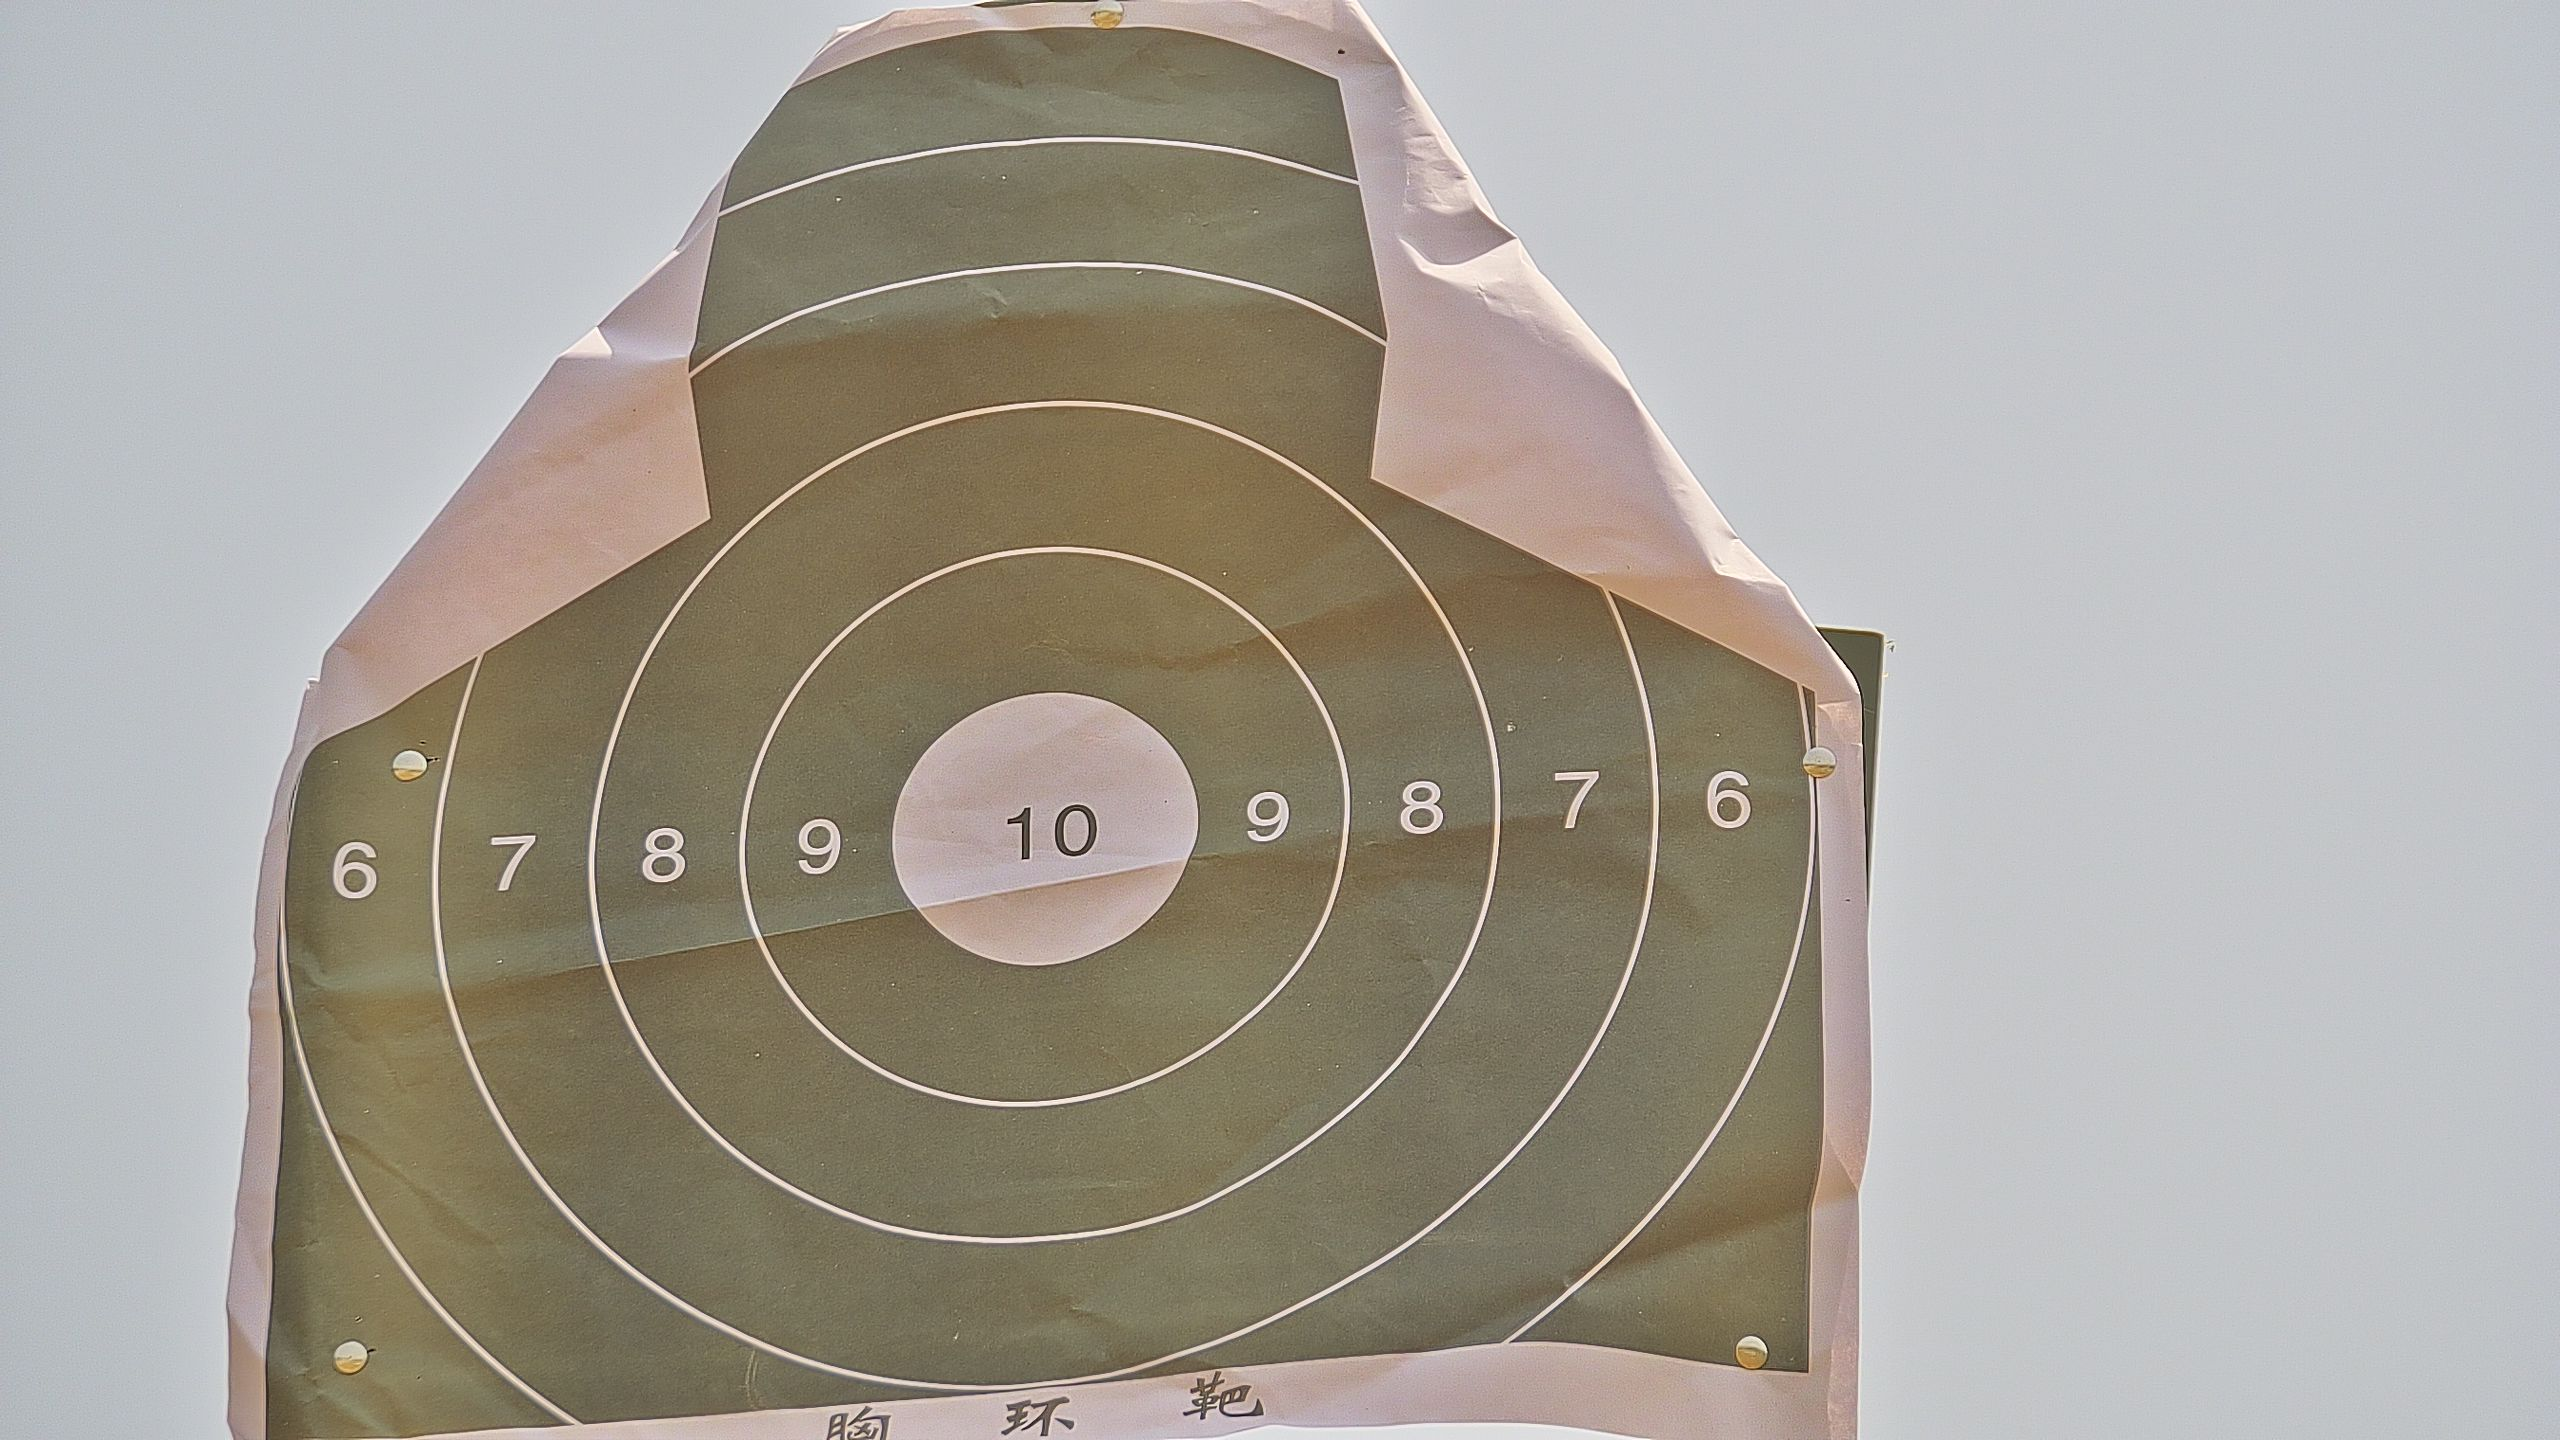target: (264, 23, 1829, 1440)
ten: (888, 693, 1204, 969)
